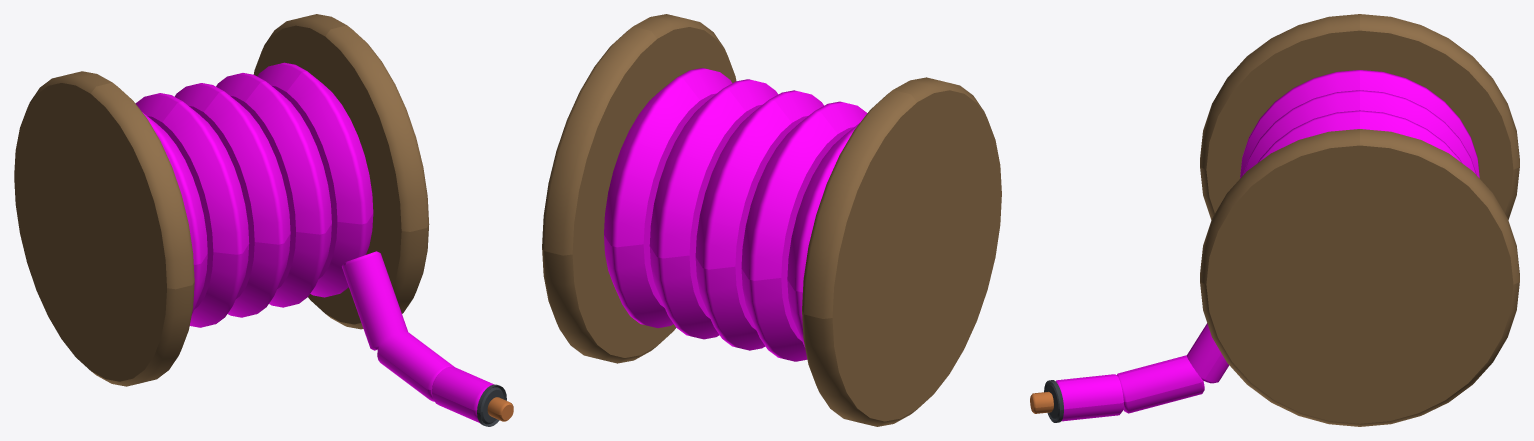
The model's file is objet_cable.glb.
3 renders of one model, left to right at view 1: azimuth 30°, elevation 25°; view 2: azimuth 150°, elevation 25°; view 3: azimuth 270°, elevation 25°, orthographic. The views are drawn at different scales.
Visible parts, largest first — view 1: cable_bois.002, cable_teinte.002, cable_teinte_sombre.002, cable_cuivre.002; view 2: cable_bois.002, cable_teinte.002; view 3: cable_bois.002, cable_teinte.002, cable_teinte_sombre.002, cable_cuivre.002.
Part boxes in pixels (x1,y1,x2,y2): cable_bois.002: (14,14,429,386); cable_teinte.002: (135,62,494,422); cable_teinte_sombre.002: (477,384,506,426); cable_cuivre.002: (487,397,513,421); cable_bois.002: (542,14,1001,426); cable_teinte.002: (604,68,867,361); cable_bois.002: (1200,14,1519,426); cable_teinte.002: (1056,70,1479,421); cable_teinte_sombre.002: (1044,380,1063,422); cable_cuivre.002: (1030,391,1053,413).
Size of the model in its own units: 0.1935 by 0.2 by 0.3062.
